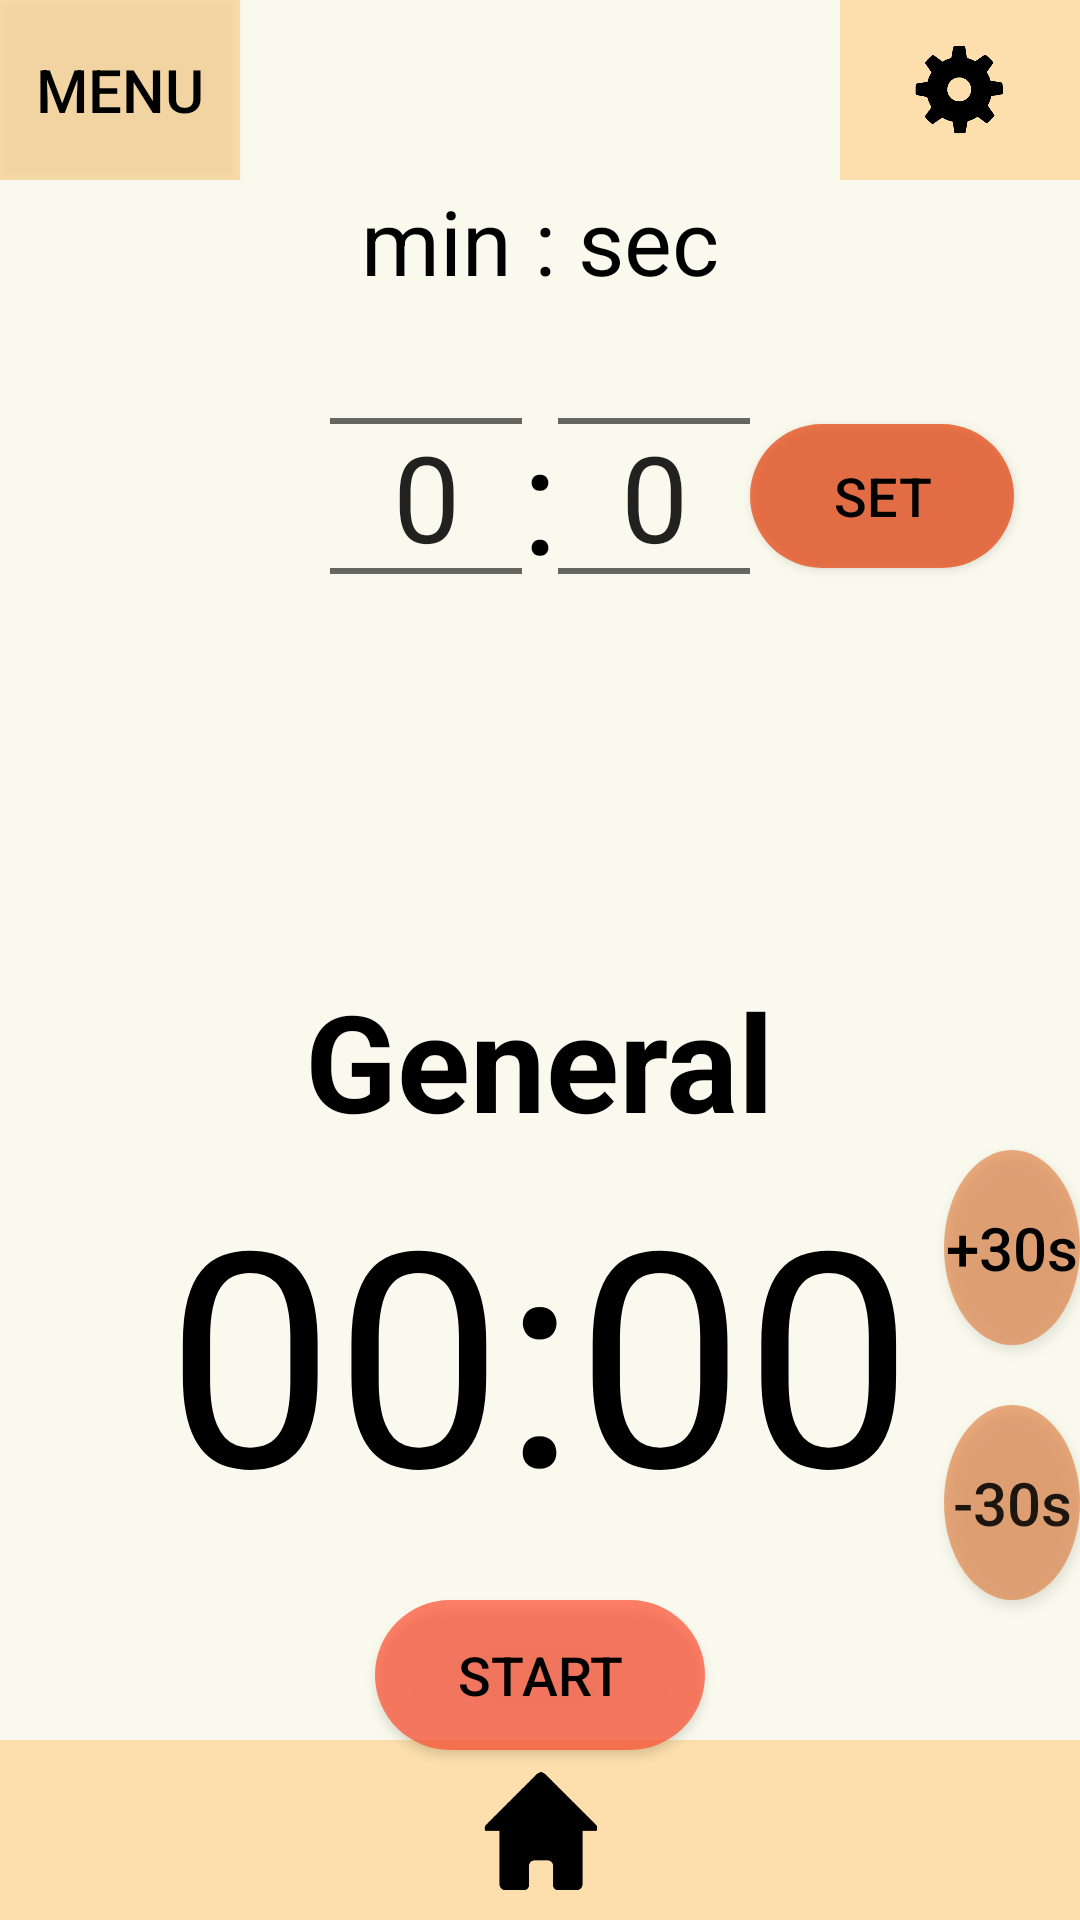

Named icons in this screenshot (1080 x 1920) and their centers, [x,y]:
home: [540,1831]
wheel: [959,89]
